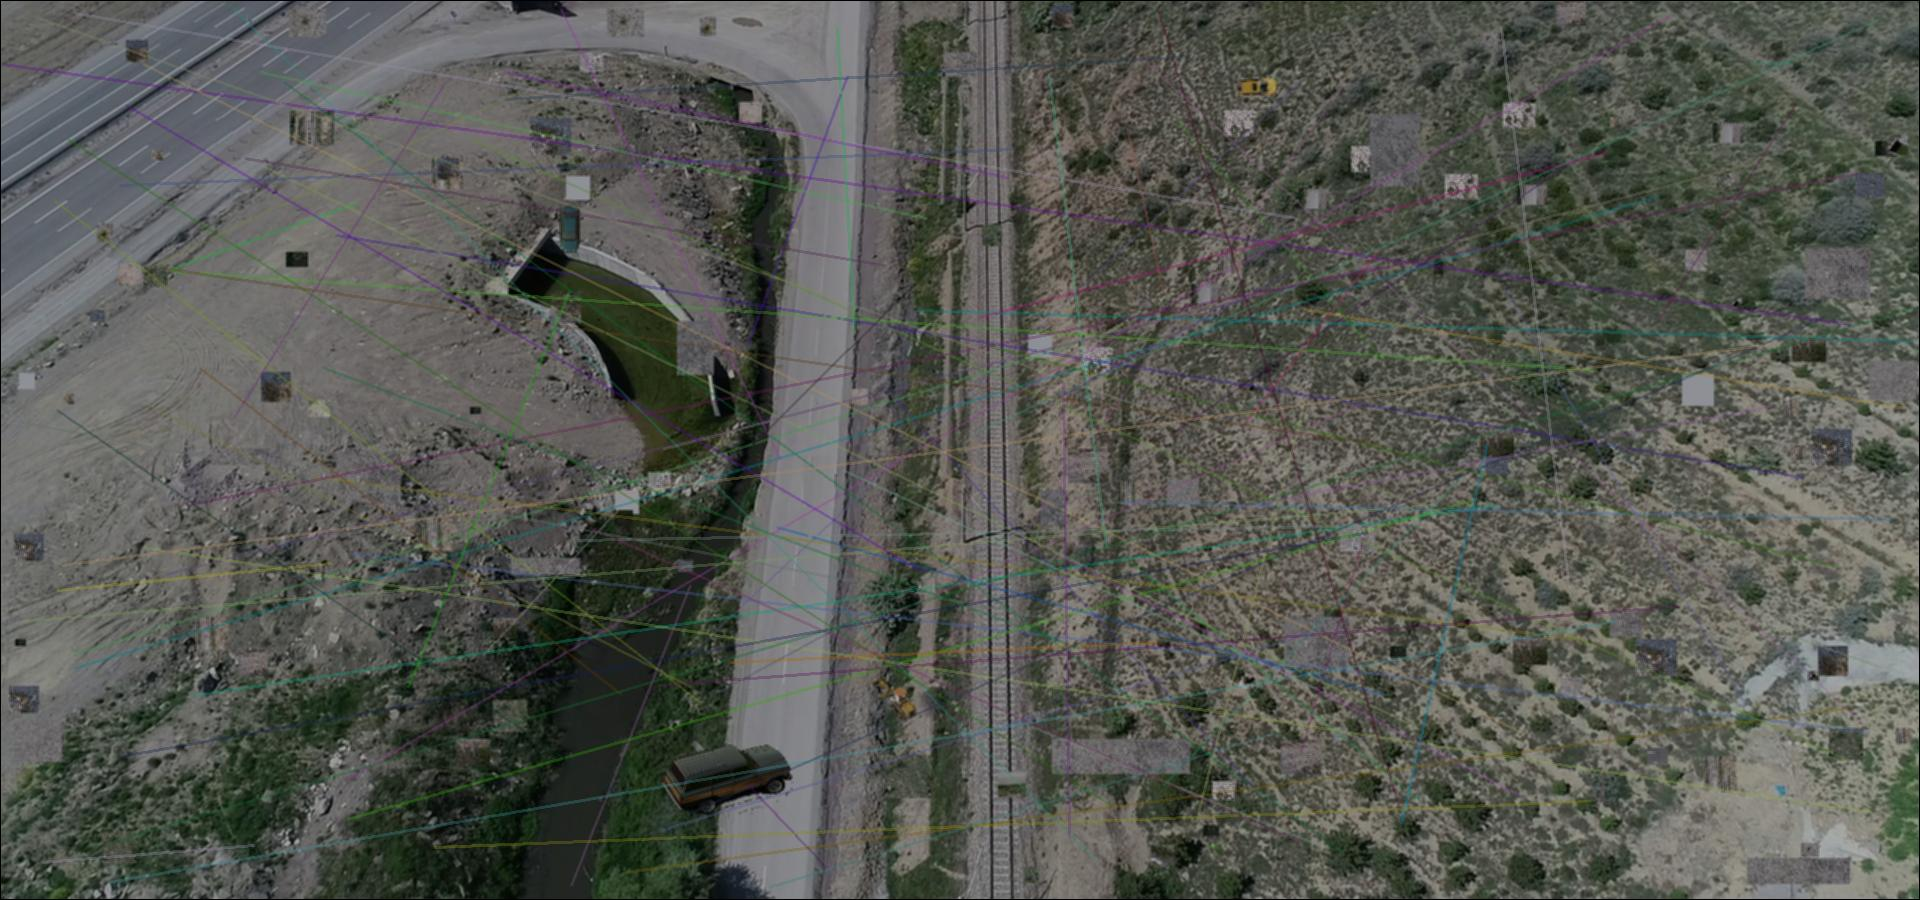arac: (662, 744, 793, 814), (869, 676, 918, 722), (560, 204, 582, 255), (1237, 75, 1278, 99)
